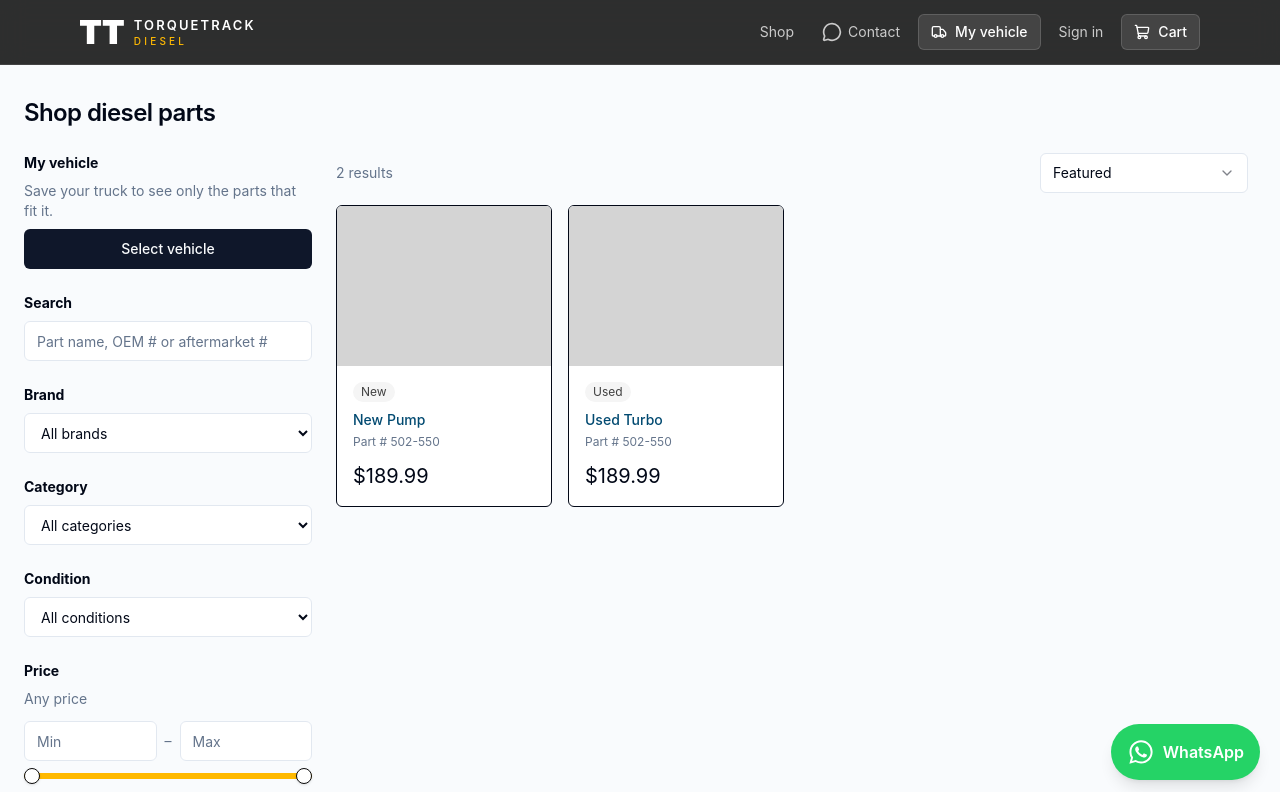
Test: CatalogPage › filters used products by condition
expect the link "New Pump" is shown: met, box x1=353 y1=411 x2=425 y2=428
expect the link "Used Turbo" is shown: met, box x1=585 y1=411 x2=663 y2=428
Select "Used" in the dropdown named "Condition". click: x=168, y=617
box: x1=24 y1=597 x2=312 y2=637
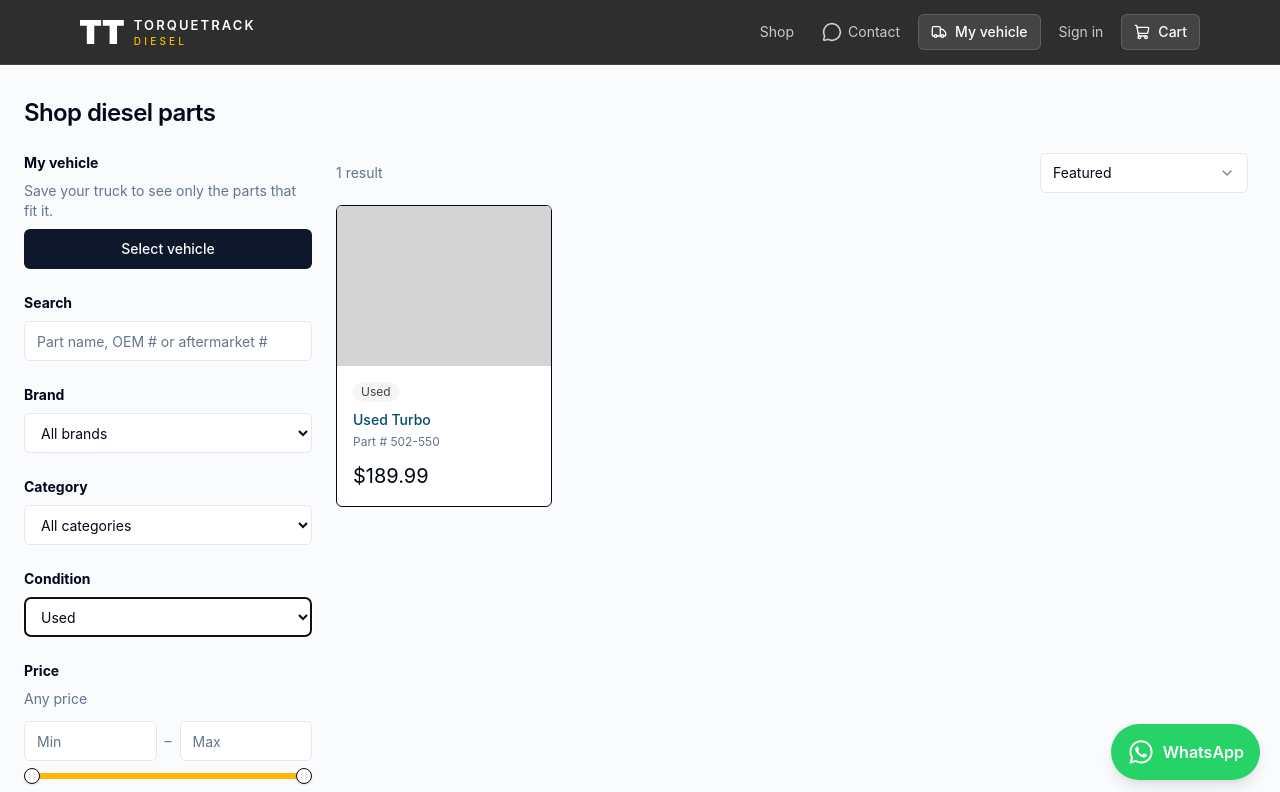
expect the link "Used Turbo" is shown: met, box x1=353 y1=411 x2=431 y2=428
expect the text "1 result" is shown: met, box x1=336 y1=163 x2=383 y2=183
expect the link "New Pump" is gone: met
